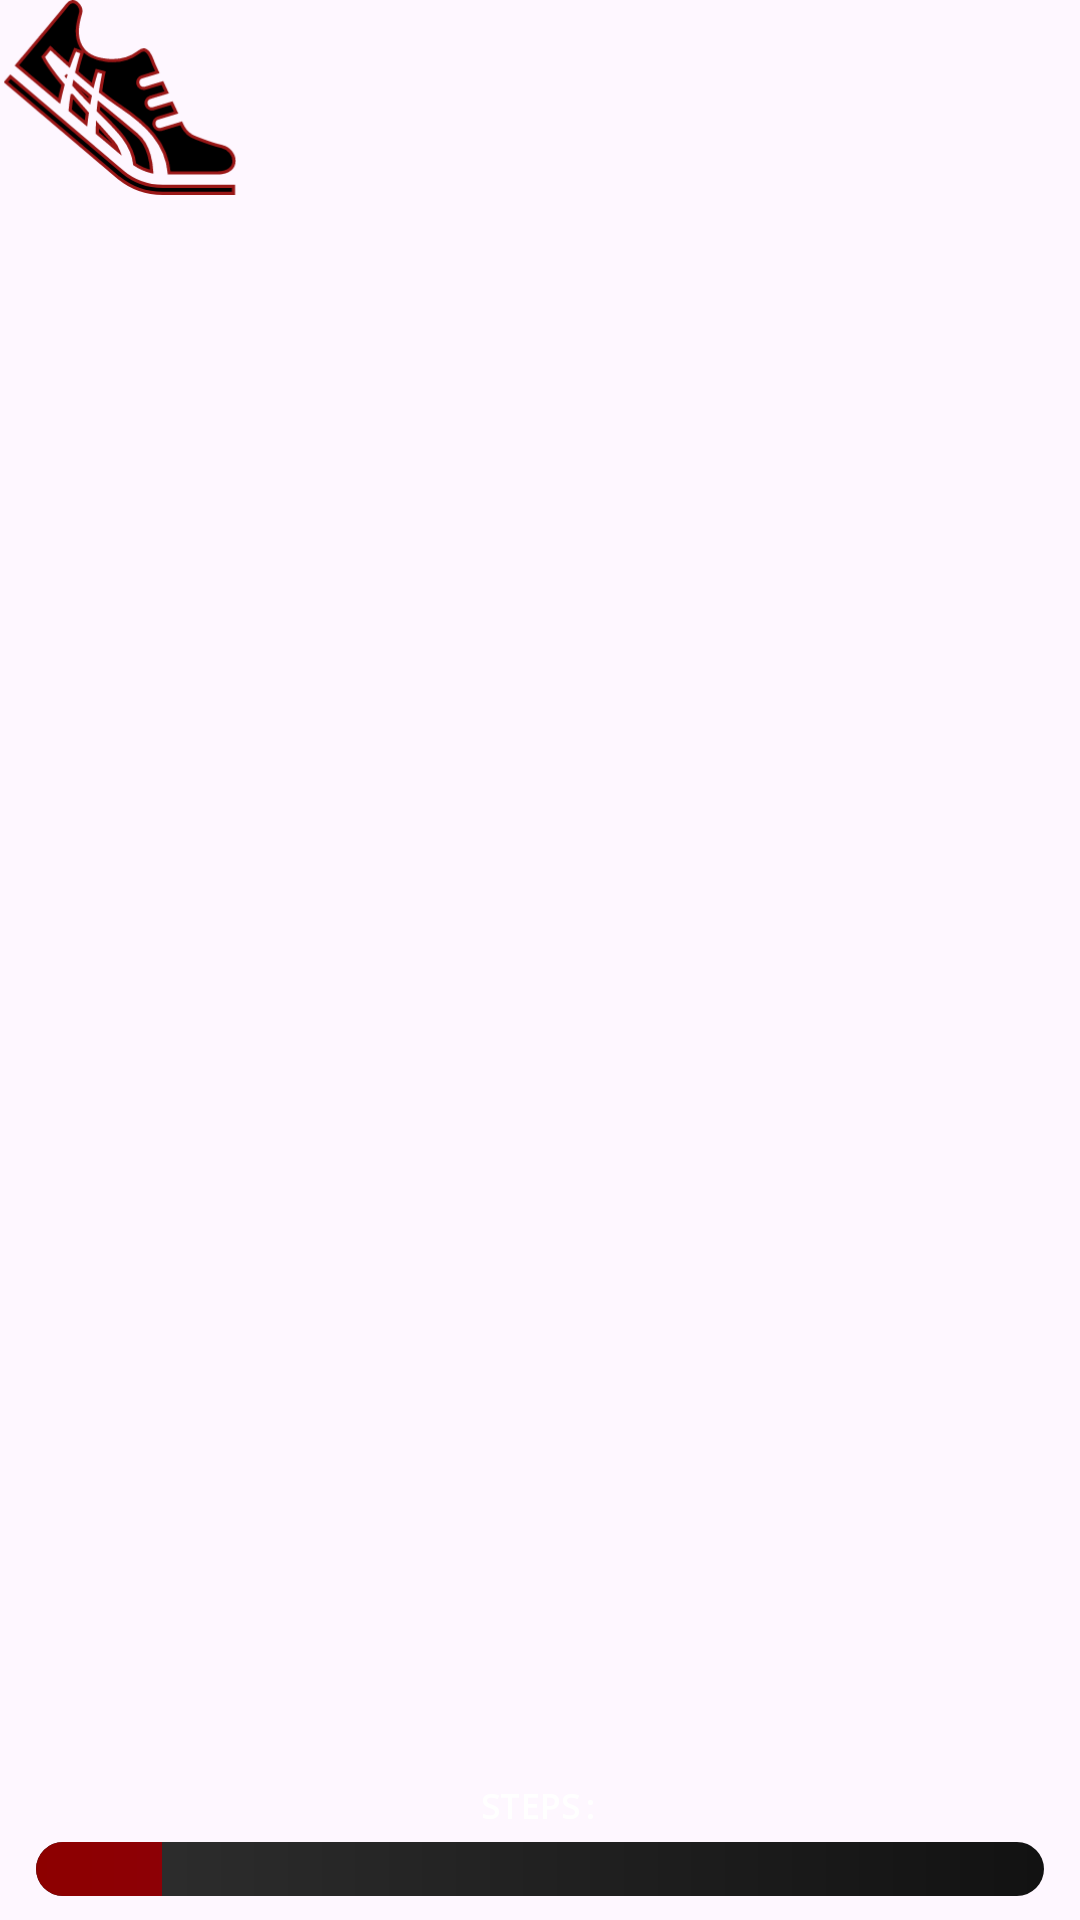

Named icons in this screenshot (1080px×1920px) and their bounding boxes, (x1, y1, x2, y2):
shoe: (4, 0, 236, 195)
